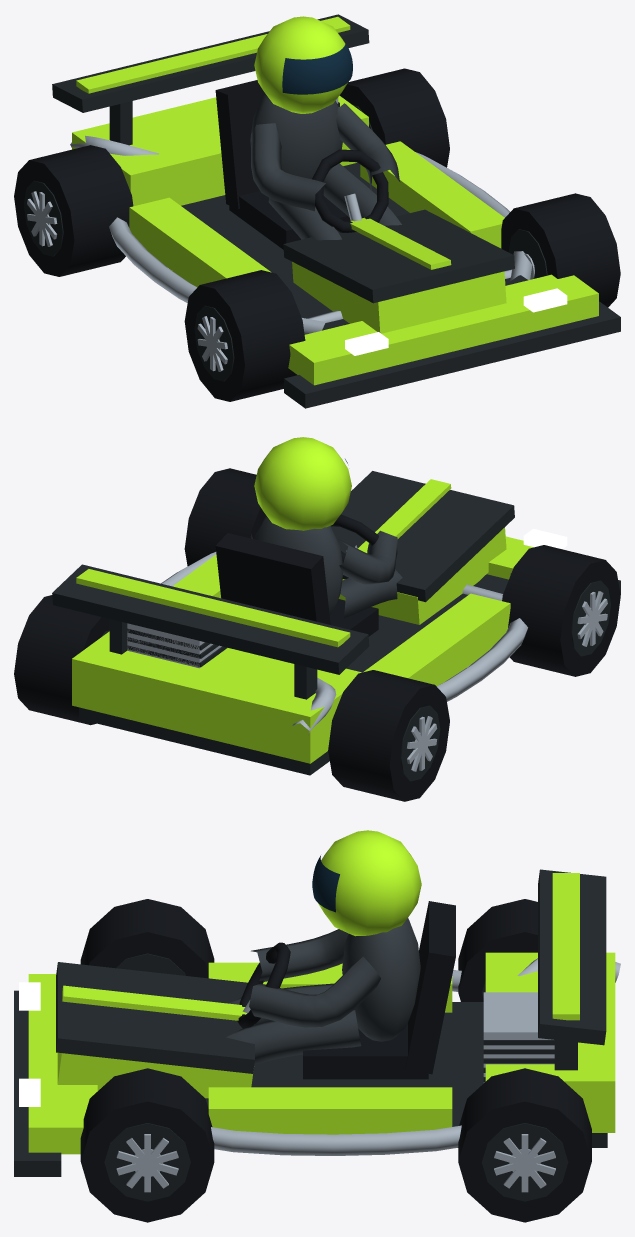
The model's file is apex-lod.glb.
3 views of the same model, one above another, from view 1: azimuth 30°, elevation 25°; view 2: azimuth 150°, elevation 25°; view 3: azimuth 270°, elevation 25° (orthographic). The views are drawn at different scales.
Visible parts, largest first — view 1: paint, rubber, graphite, suit, metal, visor, lamp; view 2: paint, rubber, graphite, metal, suit, lamp; view 3: rubber, paint, graphite, suit, metal, lamp, visor.
Part boxes in pixels (<box>): paint: <box>72,16,598,385</box>; rubber: <box>14,68,620,401</box>; graphite: <box>23,14,620,408</box>; suit: <box>250,94,401,240</box>; metal: <box>27,97,534,371</box>; visor: <box>282,43,352,94</box>; lamp: <box>345,288,567,355</box>; paint: <box>72,437,533,763</box>; rubber: <box>14,468,620,801</box>; graphite: <box>52,471,620,781</box>; metal: <box>127,545,607,771</box>; suit: <box>250,515,402,618</box>; lamp: <box>351,485,567,549</box>; rubber: <box>80,899,591,1222</box>; paint: <box>28,830,615,1154</box>; graphite: <box>14,869,607,1201</box>; suit: <box>226,918,420,1064</box>; metal: <box>116,958,620,1192</box>; lamp: <box>19,982,40,1106</box>; visor: <box>312,855,339,912</box>.
Size of the model in its own units: 2.48 by 1.61 by 3.09.
